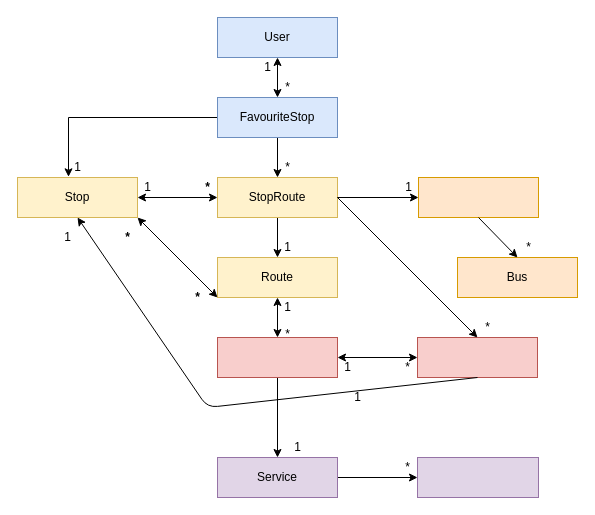
The diagram is 595 pixels wide and 515 high, and some of its shapes have lost their labels. Here are the shapes that lost their labels. From the top down, the centre of each, then its label:
At [478,197]: "LiveBusData".
At [277,357]: "Trip".
At [477,357]: "StopTime".
At [477,477]: "ServiceException".
